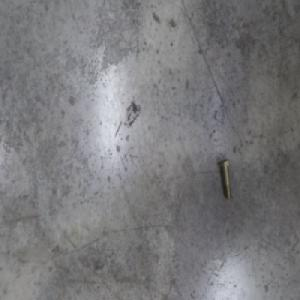Bolt: (214, 156, 227, 198)
